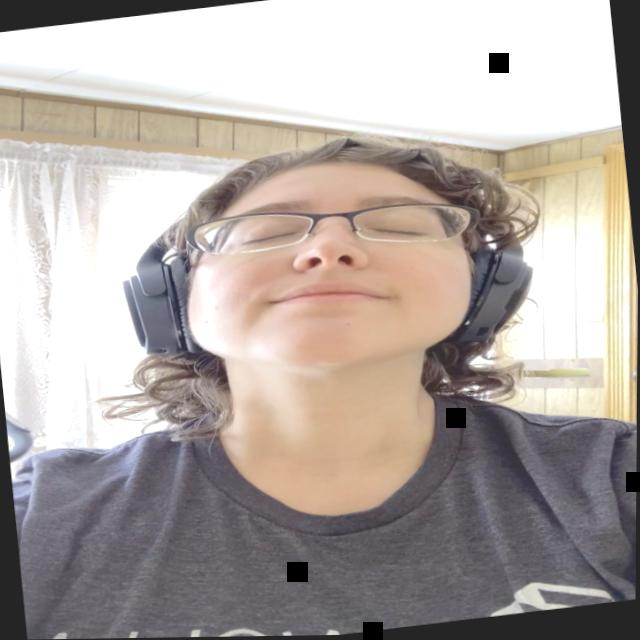NO-Mask: (172, 145, 486, 393)
